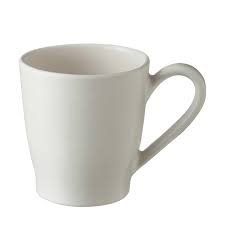mug: (6, 35, 221, 205)
